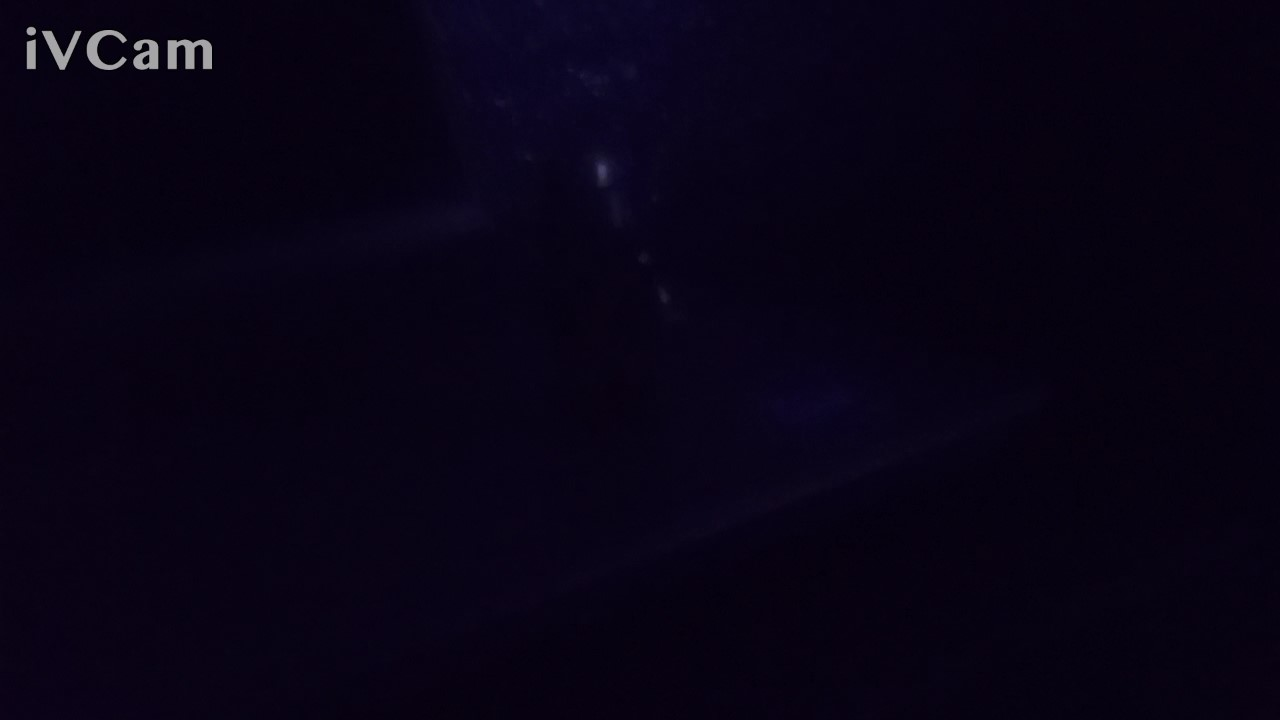mandalorian: (500, 133, 720, 528)
